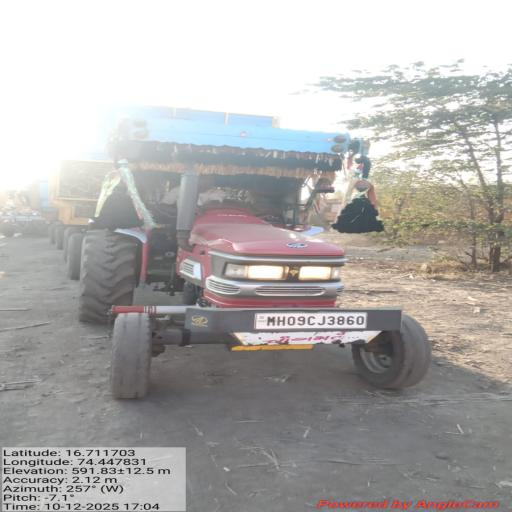number_plate: (247, 310, 380, 332)
